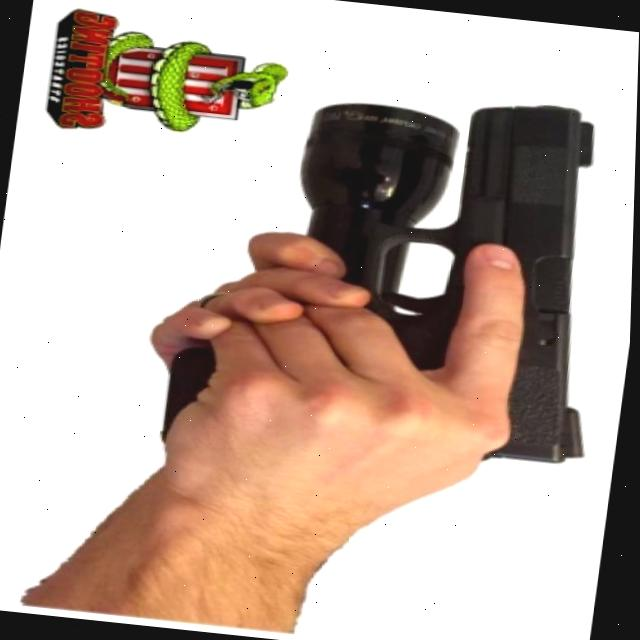pistol: (344, 66, 637, 492)
